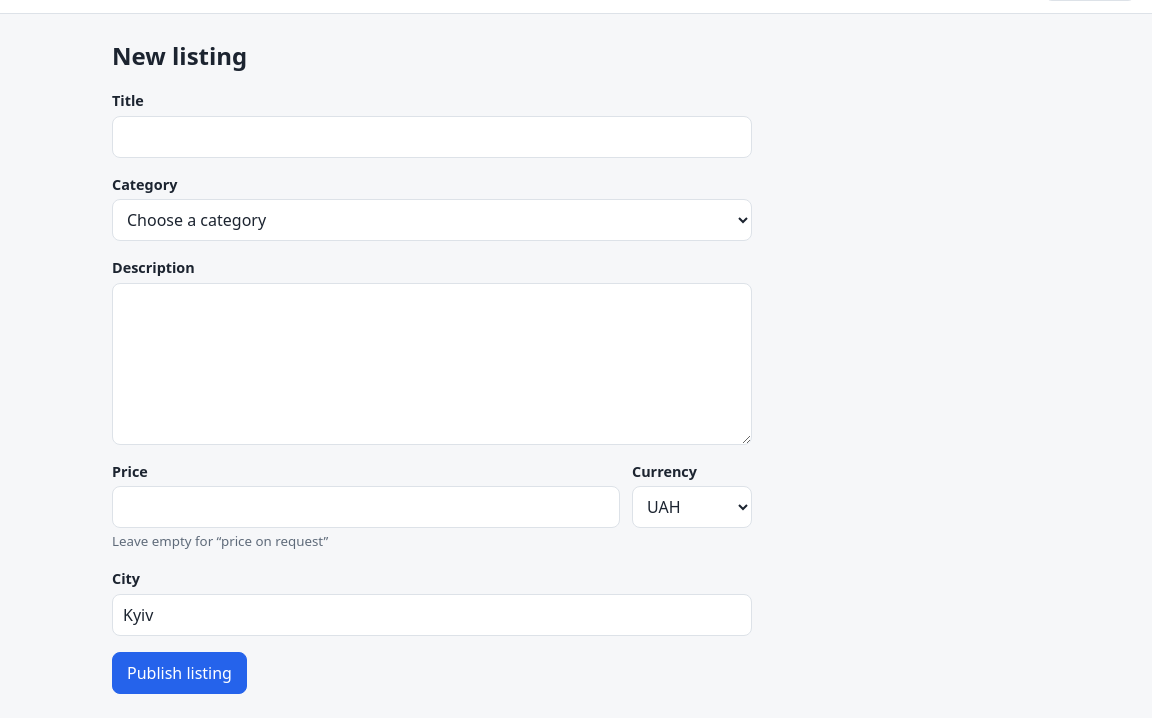
Scenario: new listing page › validates with the shared rules before sending
The width and height of the screenshot is (1152, 718).
(page scrolled)
Click the button "Publish listing".
click(179, 673)  # box [112, 652, 247, 694]
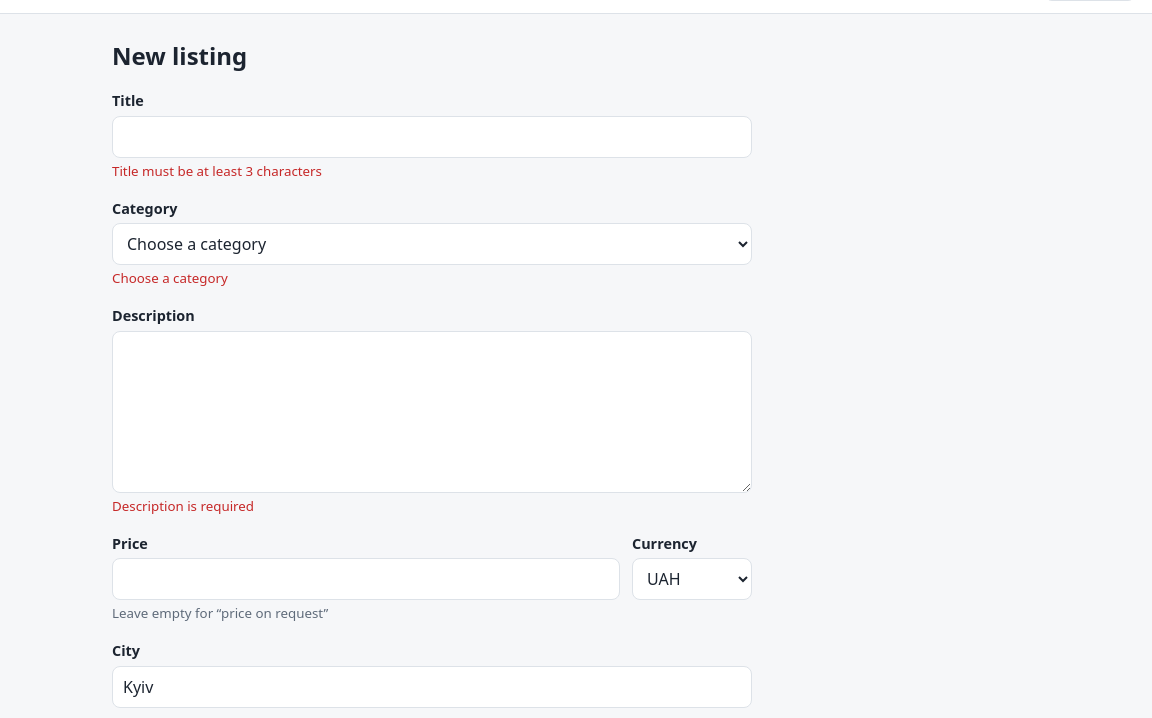
Result: the text "Choose a category" is shown at [112, 269, 228, 287]
Result: the text "Title must be at least 3 characters" is shown at [112, 162, 322, 180]
